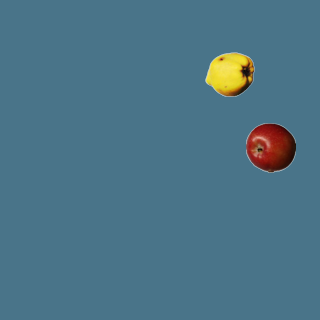Apple Braeburn: (245, 122, 295, 172)
Quince: (204, 49, 254, 99)
